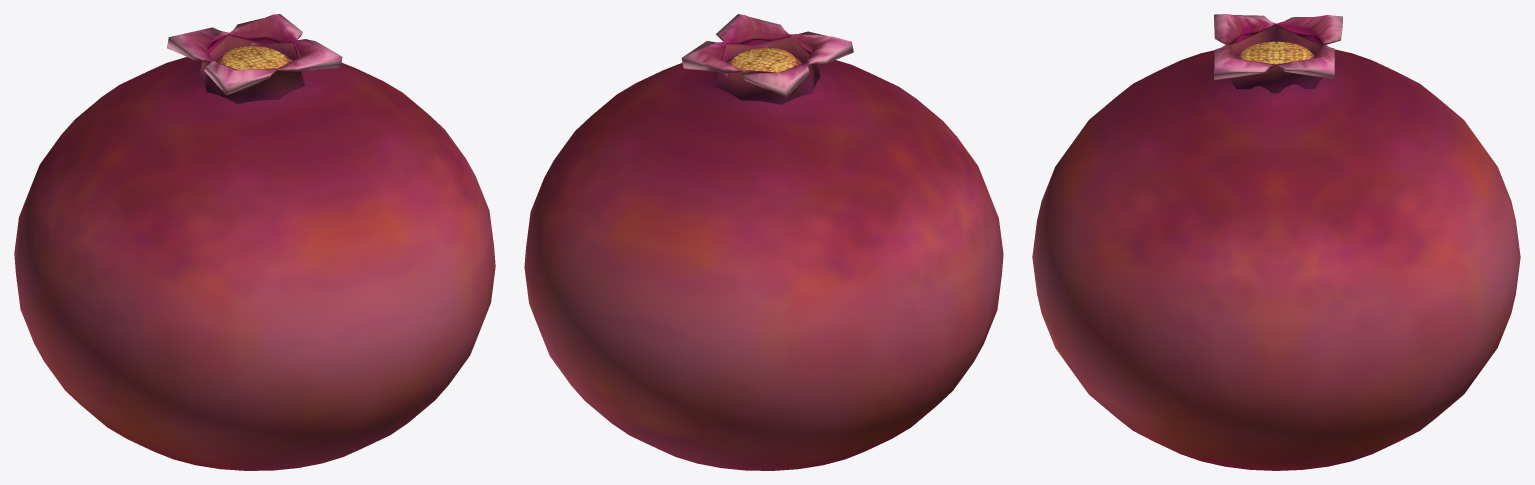
Rendered from Garnet.fbx.
3 renders of one model, left to right at view 1: azimuth 30°, elevation 25°; view 2: azimuth 150°, elevation 25°; view 3: azimuth 270°, elevation 25°, orthographic.
Visible parts, largest first — view 1: Sphere; view 2: Sphere; view 3: Sphere.
Part boxes in pixels (bbox=[...]): Sphere: bbox=[14, 14, 495, 470]; Sphere: bbox=[524, 14, 1003, 470]; Sphere: bbox=[1032, 14, 1520, 470].
Bounding box in the file's own units: 132 × 122 × 132.
